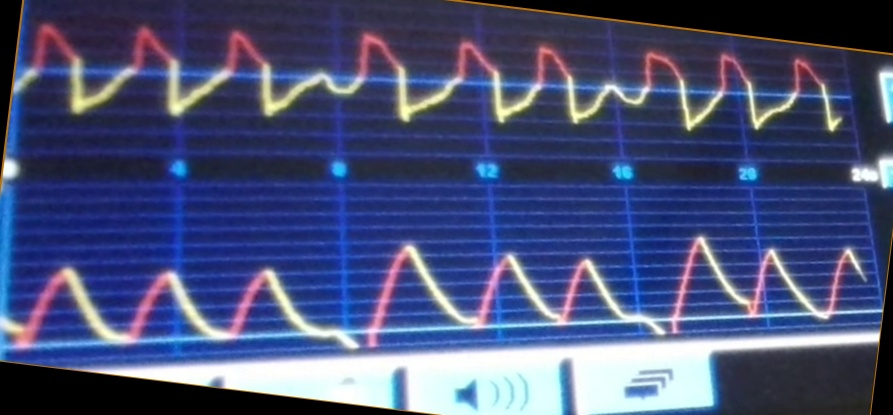Ineffective_effort Flow: (24, 17, 845, 142)
Ineffective_effort Volume: (13, 230, 871, 352)
